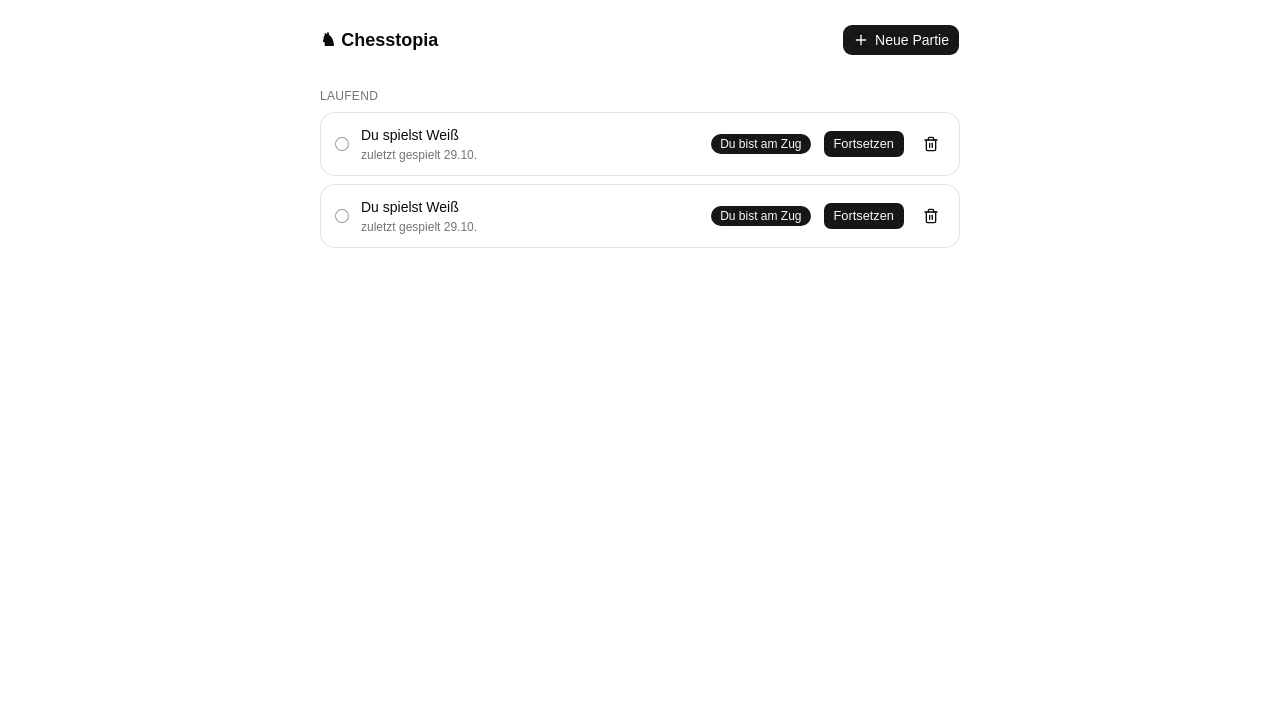
Test case: StartPage › Löschen › die Löschknöpfe der Zeilen sind gesperrt, solange ein Löschen läuft
Click the 1st button named "Partie löschen" at (931, 144), box [917, 130, 945, 158]
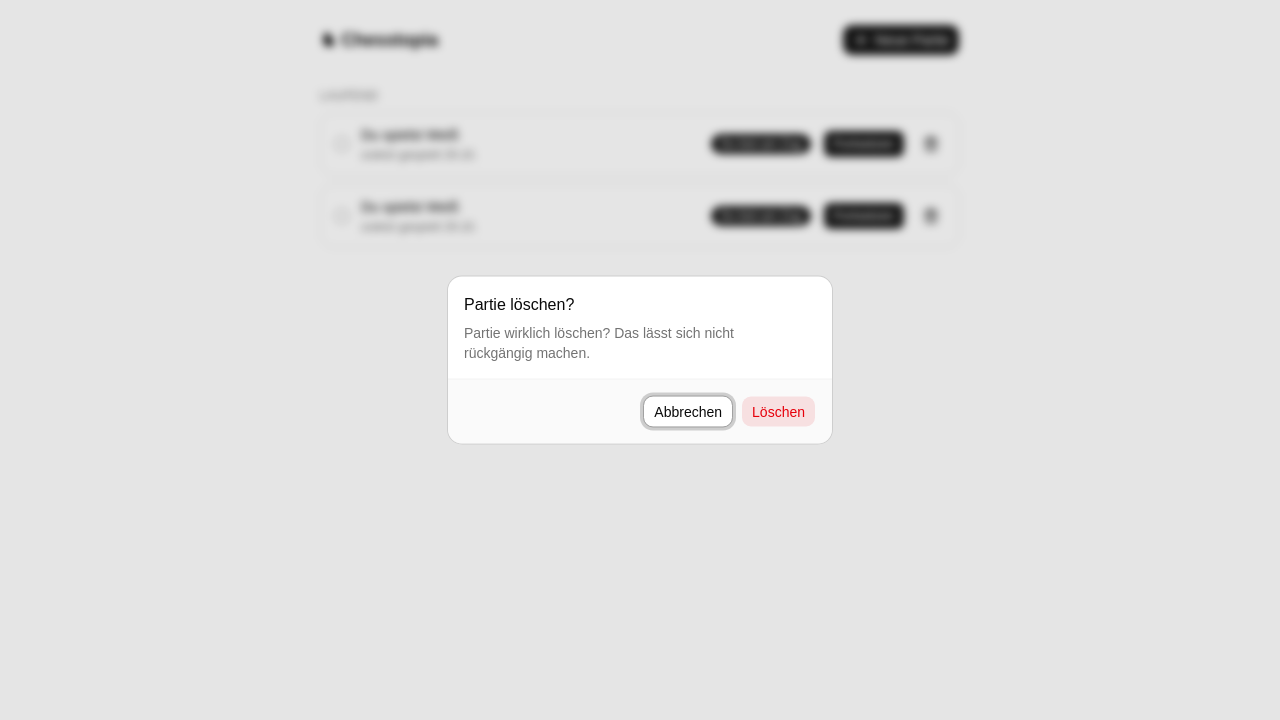
Click the button "Löschen" at (779, 412), box [741, 396, 816, 428]
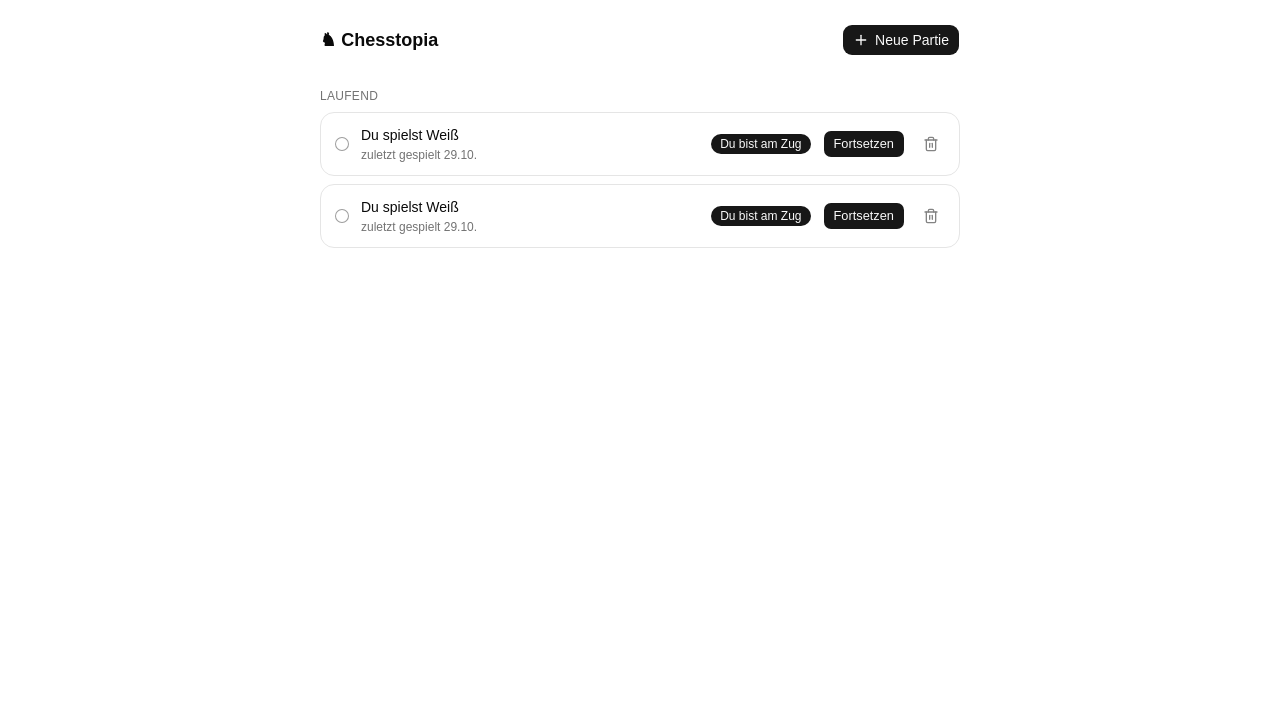
Expected: the dialog is gone
Expected: the number of buttons named "Partie löschen" is 2, [917, 130, 945, 158]; [917, 202, 945, 230]
Expected: the 2nd button named "Partie löschen" is disabled, [917, 202, 945, 230]
